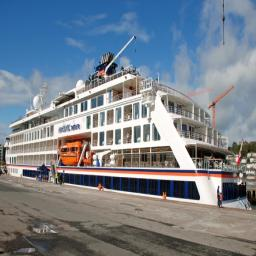cruises: (6, 45, 253, 215)
